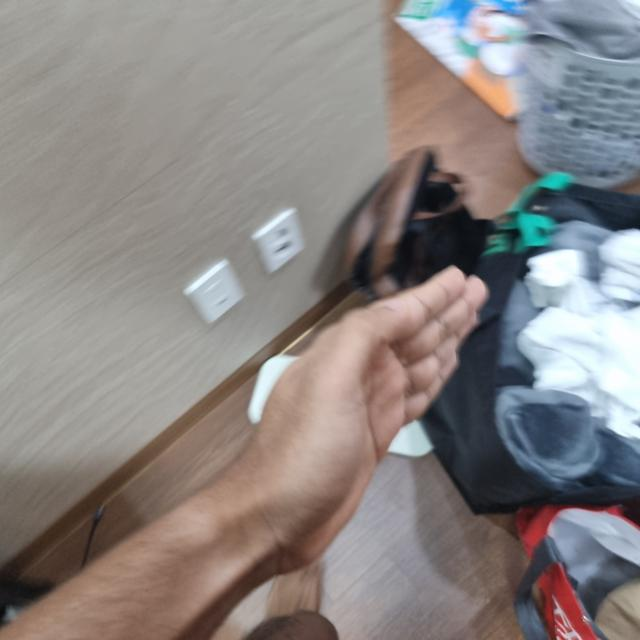Paper: (241, 264, 488, 561)
